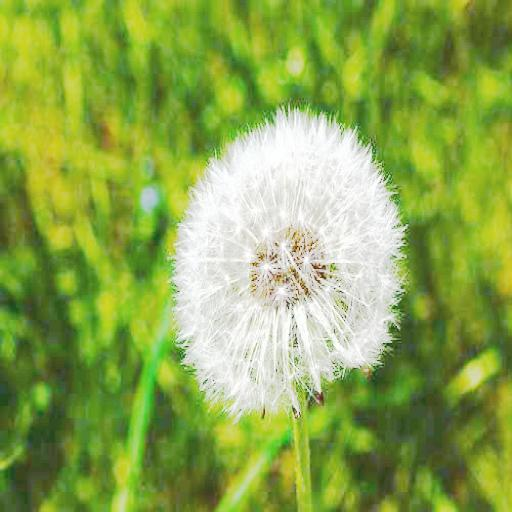dandelion: (176, 103, 403, 418)
